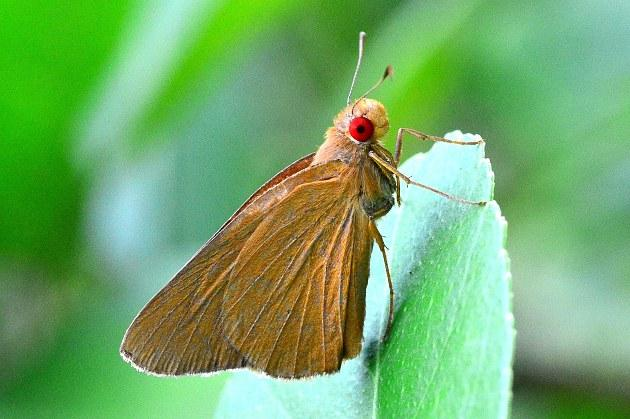Hesperiidae: (113, 30, 493, 379)
